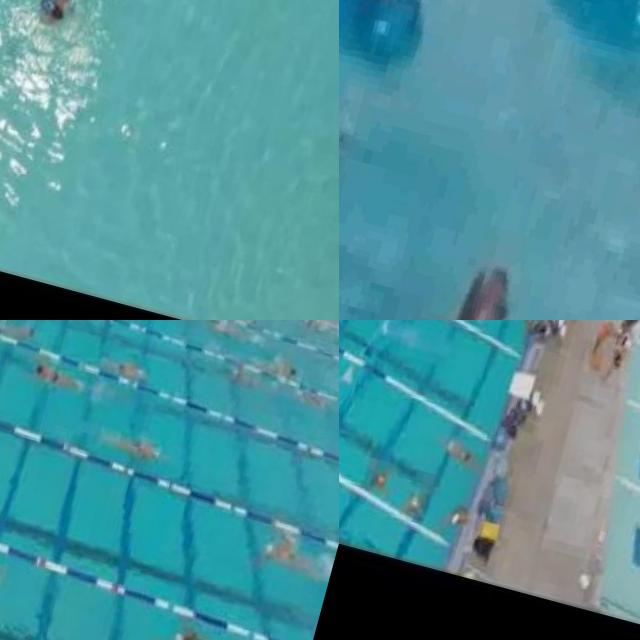drowning: (339, 61, 390, 239)
out of water: (606, 333, 631, 376), (629, 320, 640, 342)
swimming: (94, 422, 166, 480), (256, 532, 336, 582), (97, 348, 150, 388), (31, 354, 80, 394), (438, 434, 484, 476), (34, 0, 83, 37), (260, 351, 304, 391), (290, 378, 333, 416), (161, 621, 237, 640), (438, 499, 466, 538), (0, 320, 38, 347), (364, 460, 396, 492), (400, 493, 427, 521), (214, 320, 268, 333), (448, 320, 491, 332)
